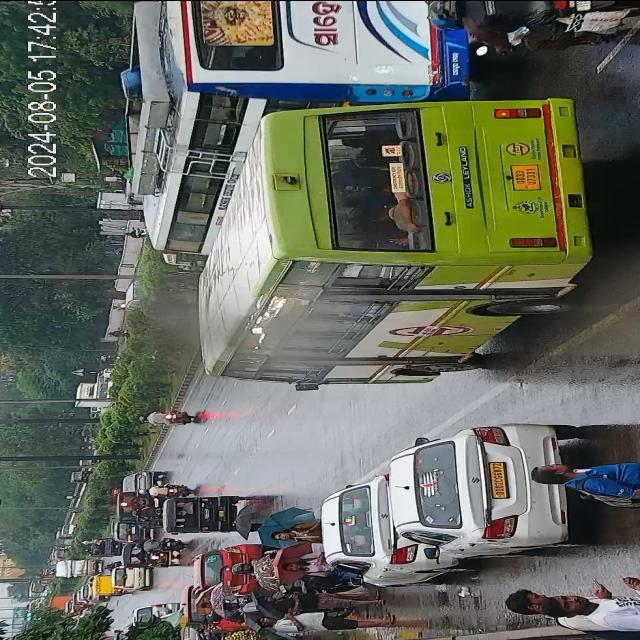2-wheelers: (438, 1, 640, 55), (130, 538, 184, 569), (140, 405, 194, 429)
auto: (165, 488, 233, 530), (77, 536, 123, 558), (113, 565, 149, 593), (95, 572, 118, 595), (67, 470, 94, 484)
bus: (197, 89, 593, 382), (131, 0, 419, 252)
car: (388, 415, 570, 560), (319, 481, 437, 581), (192, 541, 260, 602), (117, 488, 161, 530), (122, 466, 165, 494)
pedestrian: (499, 583, 640, 638), (524, 448, 640, 508), (252, 606, 385, 636), (270, 522, 322, 544)
truck: (72, 378, 114, 408)
